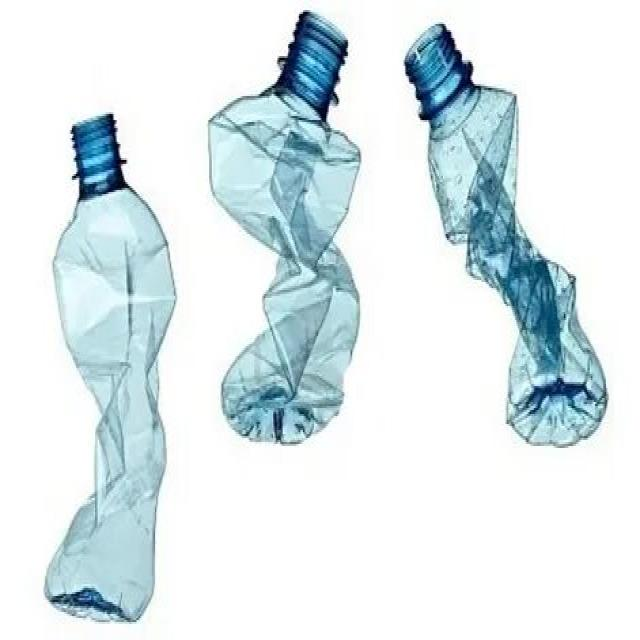blue: (402, 19, 609, 448), (45, 110, 177, 623), (206, 9, 360, 444)
